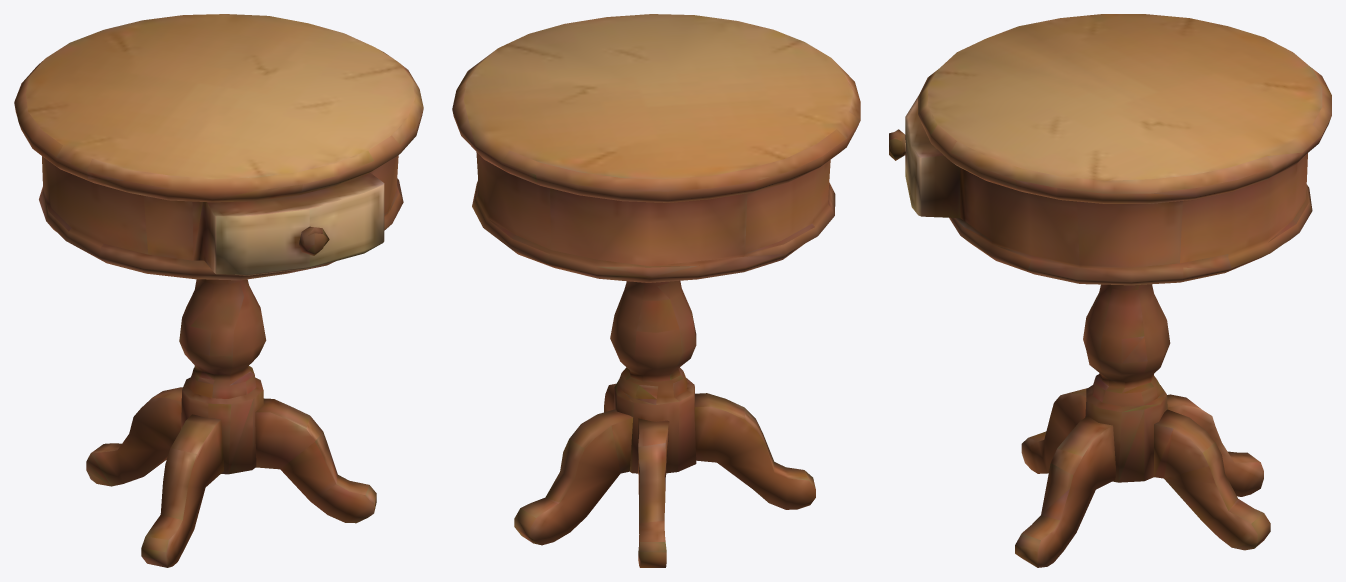
The model's file is wyn_furn_side_table.glb.
3 renders of one model, left to right at view 1: azimuth 30°, elevation 25°; view 2: azimuth 150°, elevation 25°; view 3: azimuth 270°, elevation 25°, orthographic.
Parts seen in each view (by area): view 1: tripo_node_77bb0951-31c7-4e48-b81e-1587d2df90dd; view 2: tripo_node_77bb0951-31c7-4e48-b81e-1587d2df90dd; view 3: tripo_node_77bb0951-31c7-4e48-b81e-1587d2df90dd.
Part boxes in pixels (box(x1,y1,x2,y2)): tripo_node_77bb0951-31c7-4e48-b81e-1587d2df90dd: box(14, 14, 423, 567); tripo_node_77bb0951-31c7-4e48-b81e-1587d2df90dd: box(452, 14, 860, 567); tripo_node_77bb0951-31c7-4e48-b81e-1587d2df90dd: box(889, 14, 1331, 567).
Size of the model in its own units: 0.6222 by 0.7 by 0.666.
Materials: 1 (1 with a texture image).
